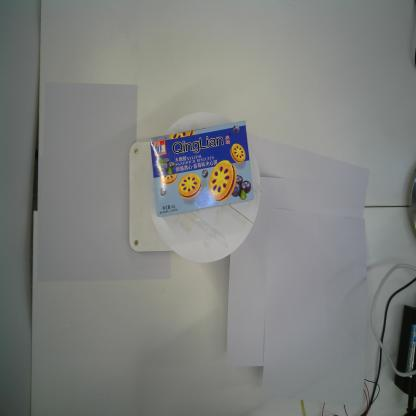Dessert: (150, 120, 254, 218)
